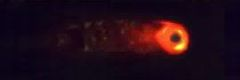keyhole: (167, 28, 185, 46)
